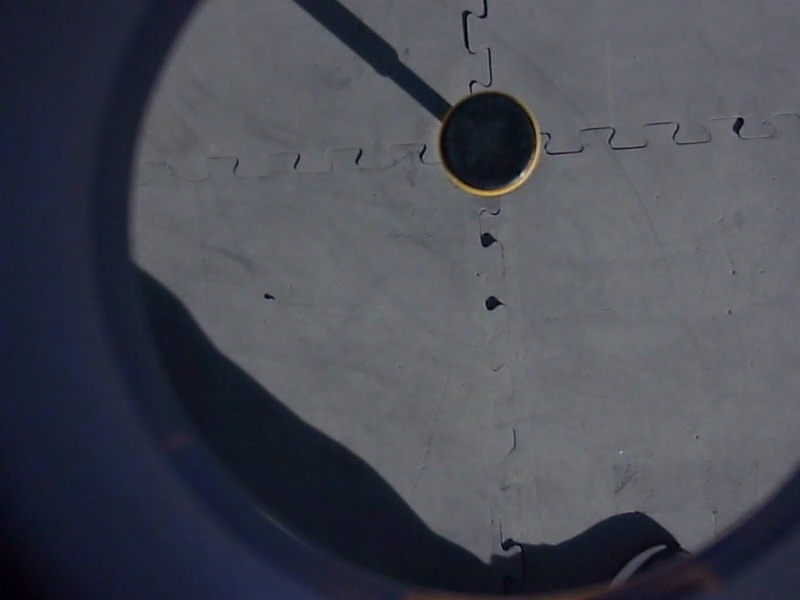tip: (432, 85, 545, 200)
